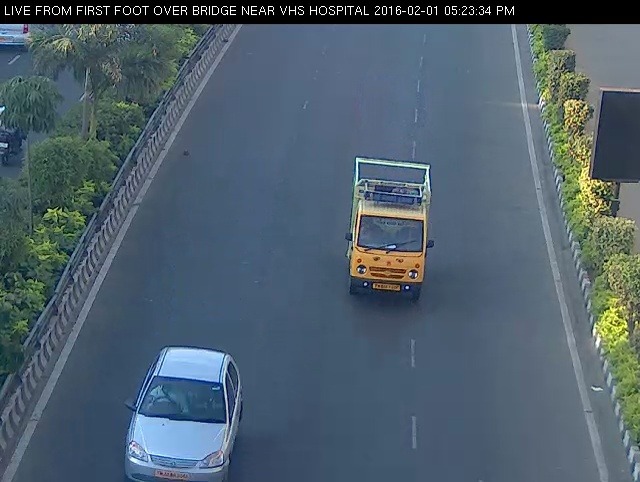Auto: (331, 136, 441, 314)
Car: (117, 344, 252, 481)
